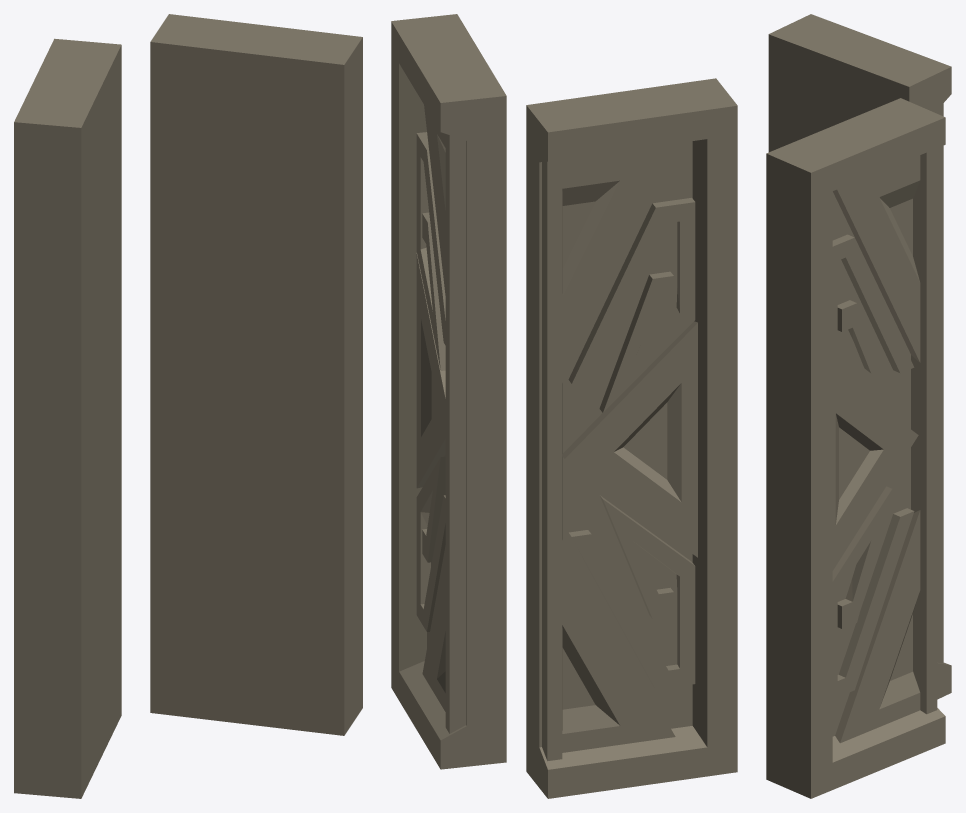
Rendered from TempleDoor_B.fbx.
3 views of the same model, side by side, from view 1: azimuth 30°, elevation 25°; view 2: azimuth 150°, elevation 25°; view 3: azimuth 270°, elevation 25° (orthographic). The views are drawn at different scales.
Parts seen in each view (by area): view 1: TempleDoor_B_L, TempleDoor_B_R; view 2: TempleDoor_B_R, TempleDoor_B_L; view 3: TempleDoor_B_L, TempleDoor_B_R.
Part boxes in pixels (box(x1,y1,x2,y2)): TempleDoor_B_L: box(150, 14, 362, 735); TempleDoor_B_R: box(14, 38, 121, 798); TempleDoor_B_R: box(526, 78, 737, 798); TempleDoor_B_L: box(391, 14, 506, 769); TempleDoor_B_L: box(766, 98, 945, 798); TempleDoor_B_R: box(768, 14, 951, 699).
Bounding box in the file's own units: 241 × 443 × 119.
